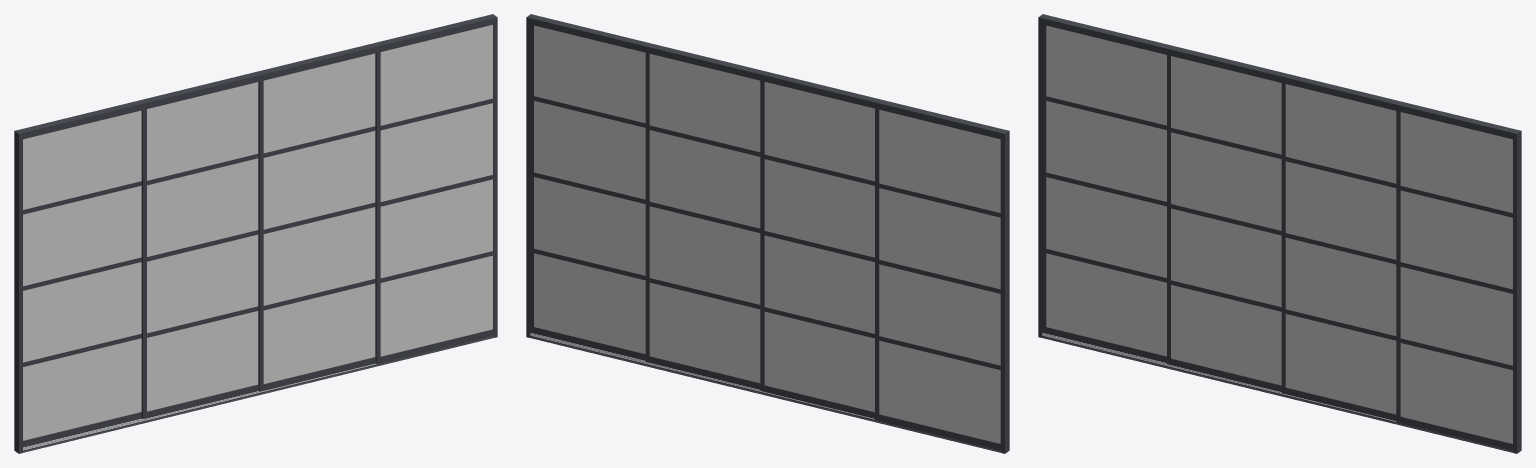
Rendered from nebbiolo_steel_door_front_400_350.glb.
3 views of the same model, side by side, from view 1: azimuth 30°, elevation 25°; view 2: azimuth 150°, elevation 25°; view 3: azimuth 330°, elevation 25° (orthographic).
Parts seen in each view (by area): view 1: steel_door_front_400_350; view 2: steel_door_front_400_350; view 3: steel_door_front_400_350.
Boxes of the visible parts, x1,y1,x2,y2 form: steel_door_front_400_350: [14, 14, 497, 453]; steel_door_front_400_350: [526, 14, 1009, 453]; steel_door_front_400_350: [1038, 14, 1521, 453].
Bounding box in the file's own units: 3.91 × 2.5 × 0.065.
Materials: 3 (1 with a texture image).
